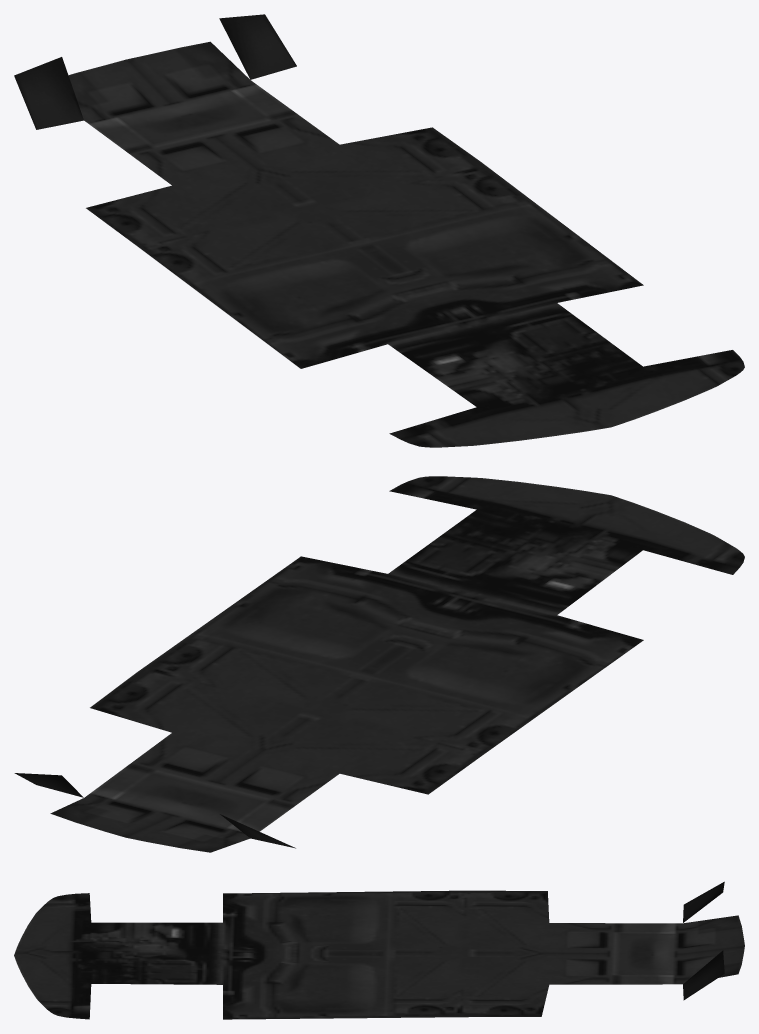
File: 5Alt.fbx
3 renders of one model, top to bottom at view 1: azimuth 30°, elevation 25°; view 2: azimuth 150°, elevation 25°; view 3: azimuth 270°, elevation 25°, orthographic. The views are drawn at different scales.
Parts seen in each view (by area): view 1: Object001; view 2: Object001; view 3: Object001.
Boxes of the visible parts, x1,y1,x2,y2 form: Object001: (14, 14, 744, 447); Object001: (14, 476, 744, 852); Object001: (14, 881, 744, 1019).
Size of the model in its own units: 1857 by 241 by 4533.
